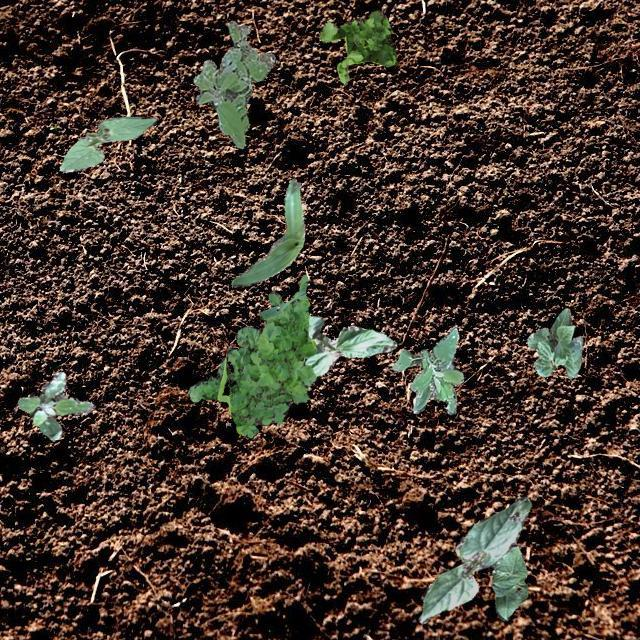crop: (418, 496, 530, 622), (230, 178, 304, 286), (302, 314, 396, 378), (58, 116, 156, 172), (526, 308, 582, 377), (491, 542, 526, 620)
weed: (188, 274, 316, 436), (192, 19, 274, 148), (392, 326, 462, 414), (318, 9, 396, 82), (17, 370, 92, 440)
